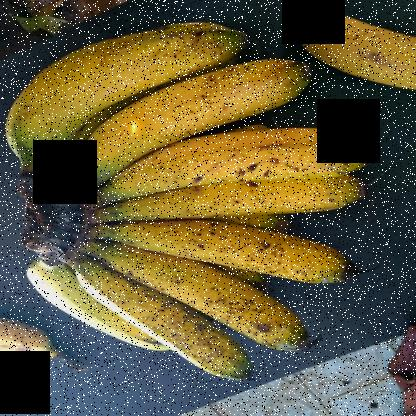ripe: (9, 16, 247, 144), (77, 62, 310, 187), (96, 236, 312, 353), (108, 130, 376, 202), (98, 222, 362, 279), (98, 172, 370, 226)
